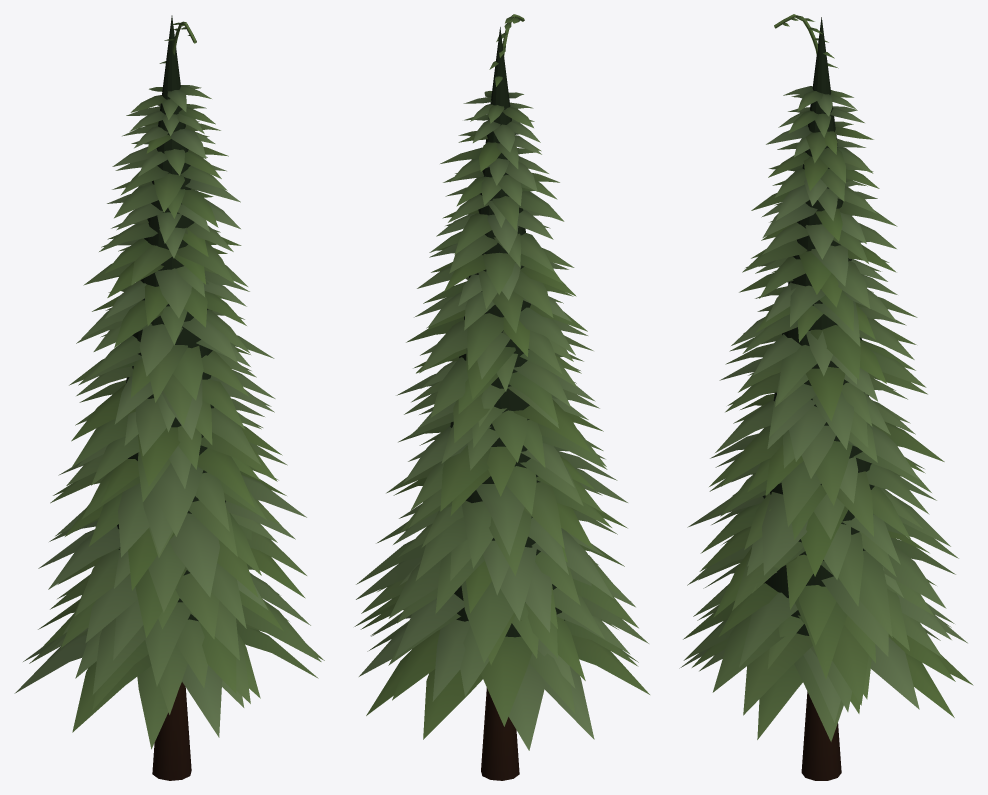
File: western-hemlock-lod0.glb
3 views of the same model, side by side, from view 1: azimuth 30°, elevation 25°; view 2: azimuth 150°, elevation 25°; view 3: azimuth 270°, elevation 25° (orthographic).
Visible parts, largest first — view 1: western-hemlock-lod0; view 2: western-hemlock-lod0; view 3: western-hemlock-lod0.
Boxes of the visible parts, x1,y1,x2,y2 form: western-hemlock-lod0: (14, 15, 324, 780); western-hemlock-lod0: (354, 14, 649, 780); western-hemlock-lod0: (679, 14, 973, 780).
Bounding box in the file's own units: 8.88 × 25.06 × 8.82.
